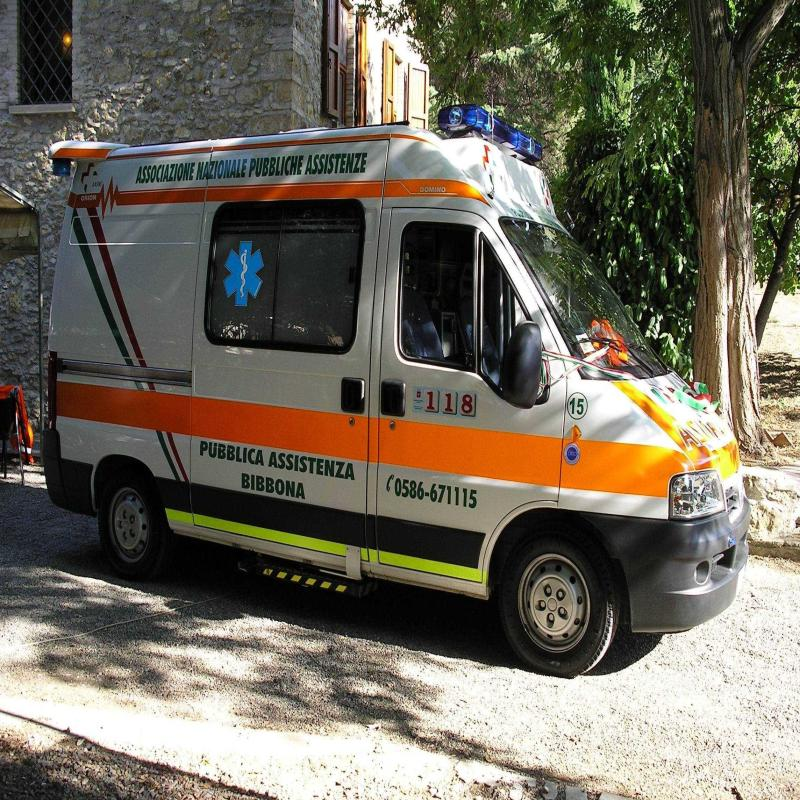AmbulanceSiren: (438, 95, 560, 165)
